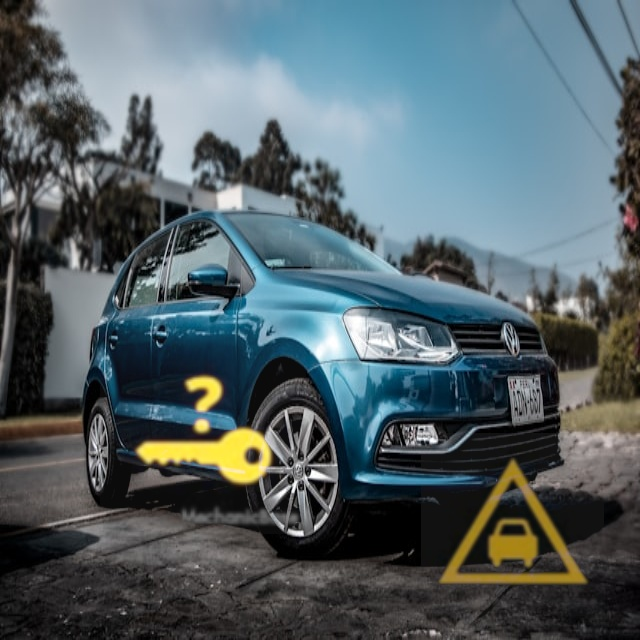symbol: (100, 328, 306, 534), (421, 433, 604, 616)
